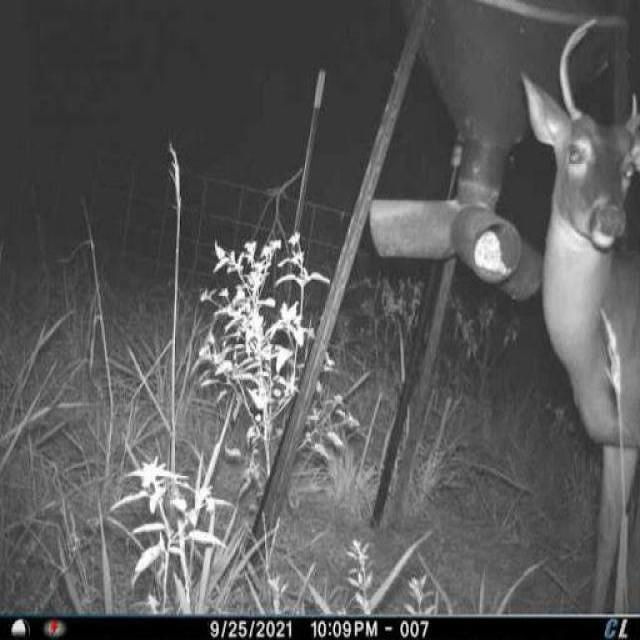deer: (517, 10, 640, 617)
